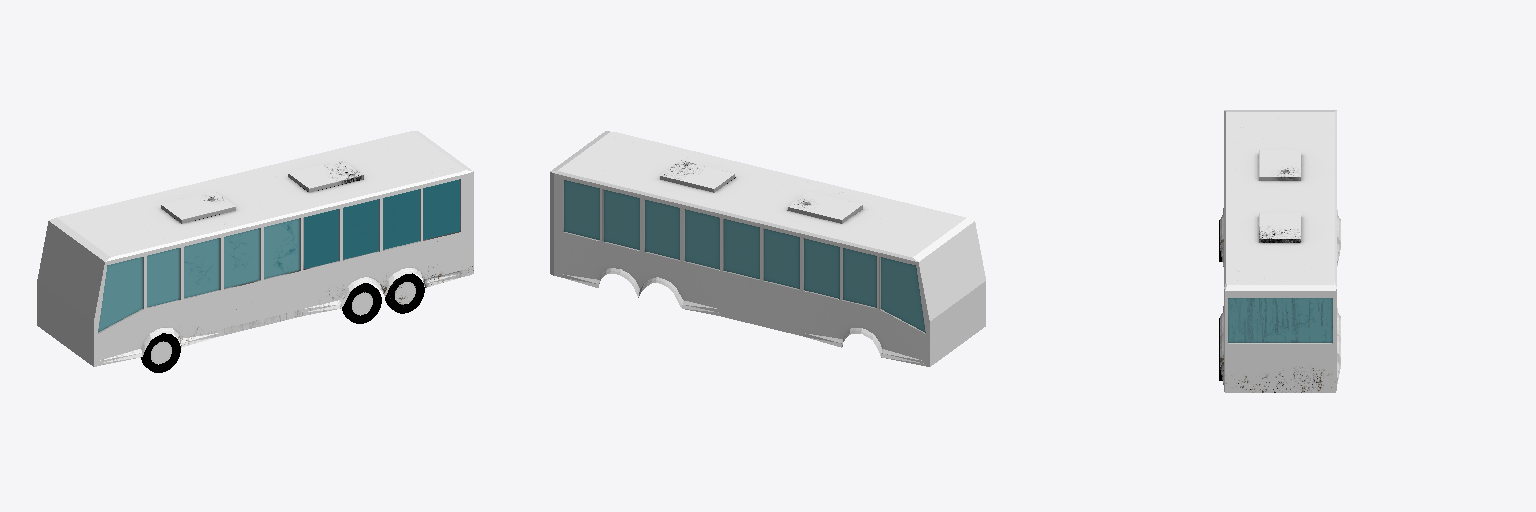
3 views of the same model, side by side, from view 1: azimuth 30°, elevation 25°; view 2: azimuth 150°, elevation 25°; view 3: azimuth 270°, elevation 25° (orthographic).
Parts seen in each view (by area): view 1: Cube, Cube.001, Circle, Cube.002; view 2: Cube, Cube.001, Cube.002; view 3: Cube, Cube.001, Cube.002.
Part boxes in pixels (x1,y1,x2,y2): Cube: (37,131,473,366); Cube.001: (98,179,459,331); Circle: (141,273,424,372); Cube.002: (161,160,363,223); Cube: (550,131,985,366); Cube.001: (564,180,925,332); Cube.002: (660,160,862,223); Cube: (1220,110,1340,392); Cube.001: (1228,298,1332,342); Cube.002: (1259,150,1300,242).
Size of the model in its own units: 7.77 by 2.51 by 2.15.
1 materials, 1 textured.